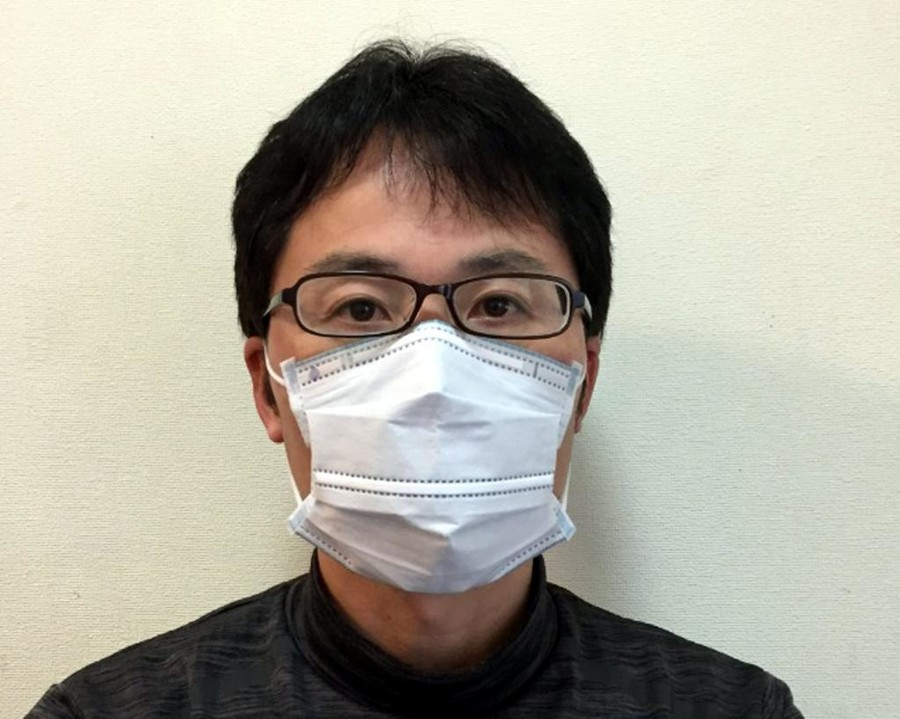mask: (273, 362, 580, 576)
